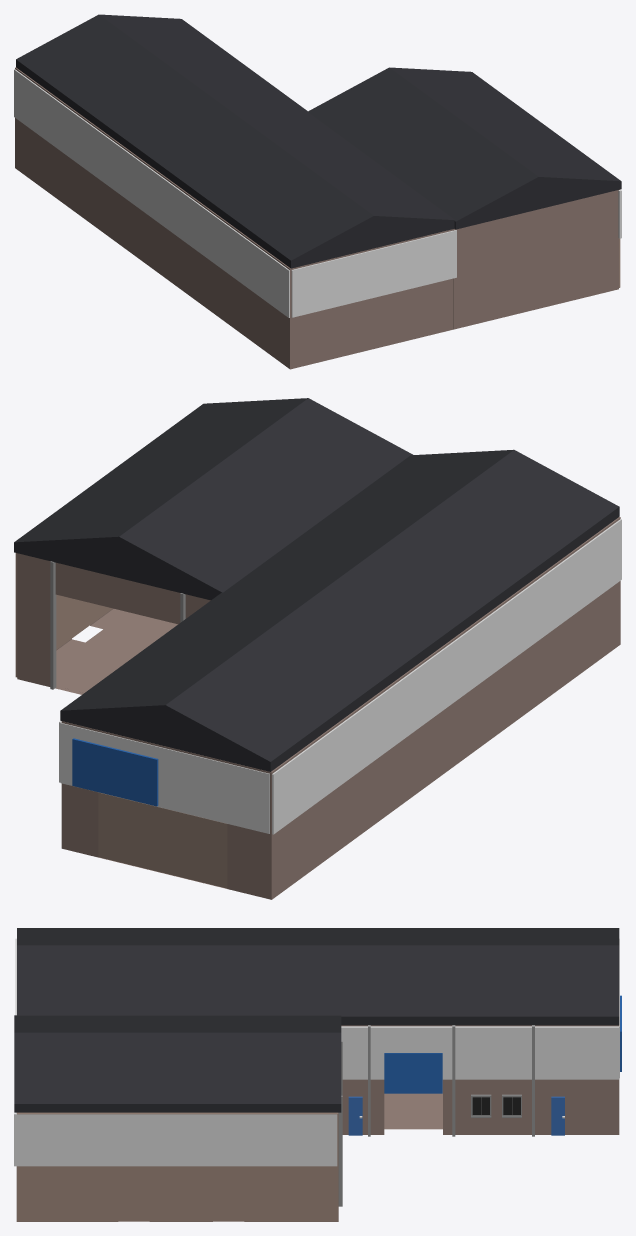
The model's file is warehouse2.glb.
The picture shows the model from 3 angles, top to bottom: view 1: azimuth 30°, elevation 25°; view 2: azimuth 150°, elevation 25°; view 3: azimuth 270°, elevation 25°; orthographic projection. The views are drawn at different scales.
Visible parts, largest first — view 1: Cube.026; view 2: Cube.026; view 3: Cube.026.
Boxes of the visible parts, x1,y1,x2,y2 form: Cube.026: (14,14,621,369); Cube.026: (14,398,621,899); Cube.026: (14,928,621,1221).
Size of the model in its own units: 61.79 by 23.7 by 89.59.
